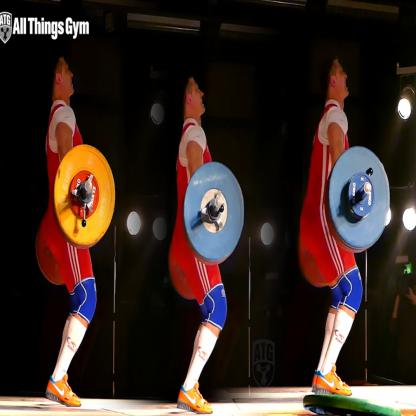Barbell: (323, 141, 392, 253), (51, 141, 120, 248), (181, 159, 247, 265)
